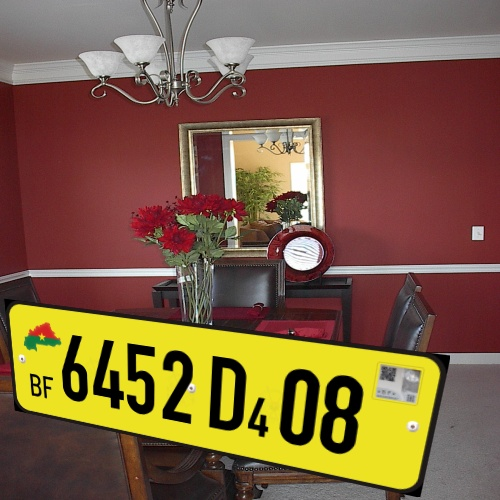plate: (3, 287, 457, 500)
